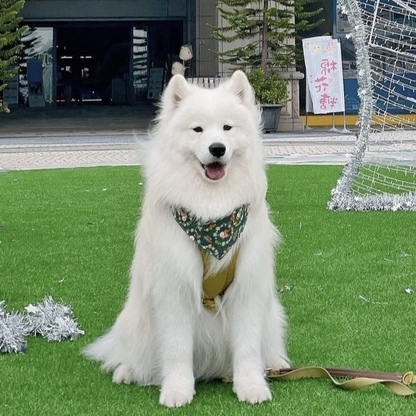samoyed: (75, 63, 307, 416)
